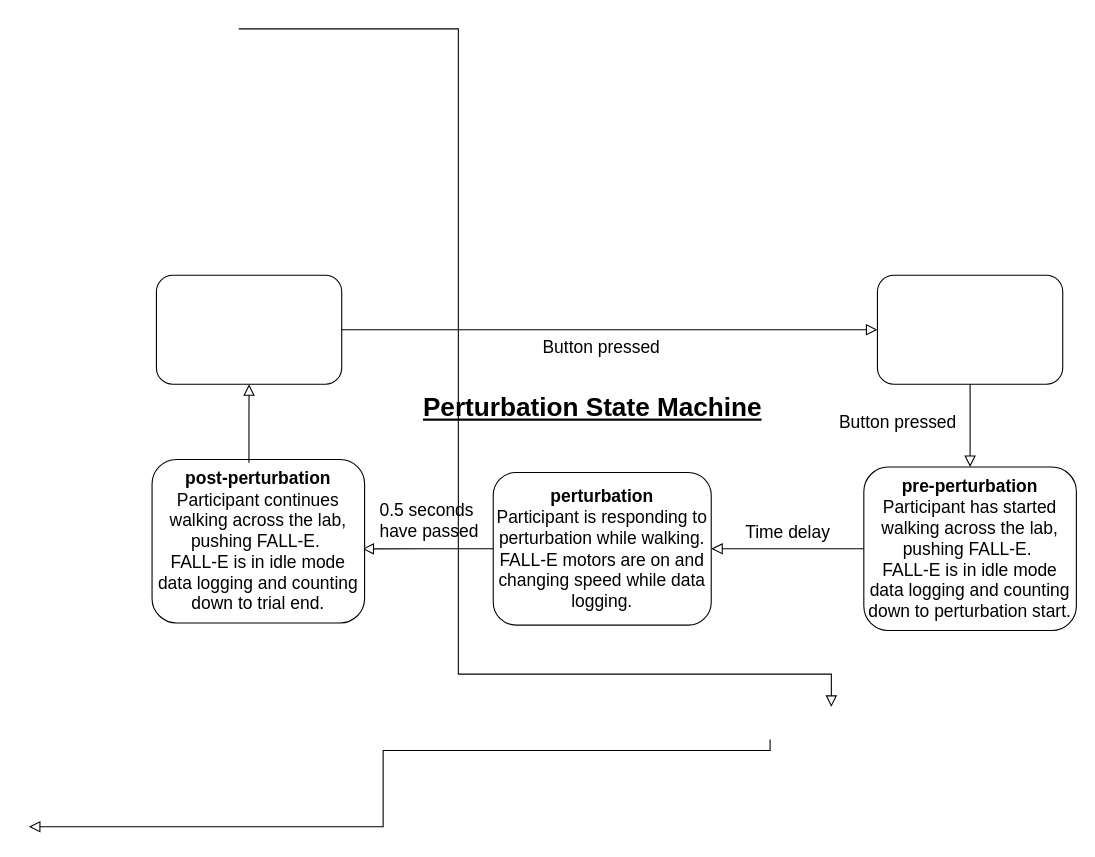
This 1095x857 diagram has some shape labels left out. The centre of each missing label's shape, as x and y in pixels:
"syncing Participant is waiting for a new trial to start. FALL-E is data logging." goes at pixel 969 329.
"waiting Participant is waiting for a new trial to start. FALL-E is in idle mode." goes at pixel 248 329.
